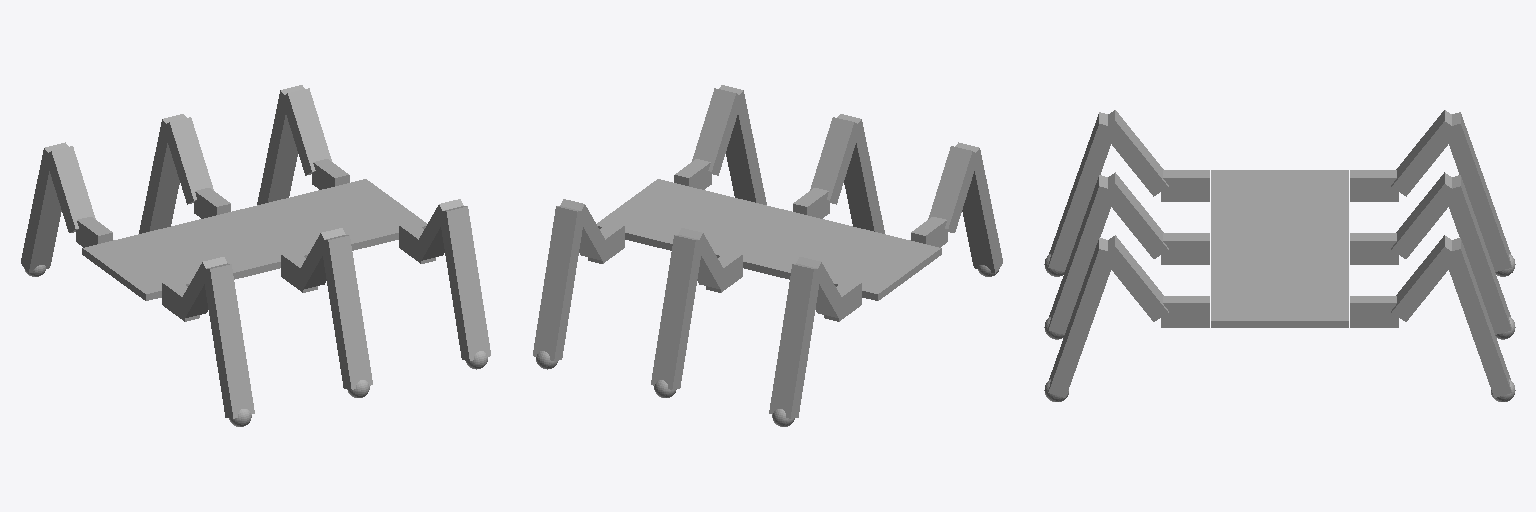
URDF robot description (hexapodo):
<?xml version="1.0" ?>
<!-- =================================================================================== -->
<!-- |    This document was autogenerated by xacro from [local-path]/WS_ROS/ws_tfg/src/hexapodo/hexapodo_description/urdf/mi_hexapodo_3dof.xacro | -->
<!-- |    EDITING THIS FILE BY HAND IS NOT RECOMMENDED                                 | -->
<!-- =================================================================================== -->
<robot name="hexapodo" xmlns:xacro="http://ros.org/wiki/xacro">
  <!-- Propiedades articulaciones -->
  <!-- Chasis -->
  <link name="map"/>
  <joint name="base_joint" type="fixed">
    <parent link="map"/>
    <child link="base_link"/>
    <origin rpy="0 0 0" xyz="0 0 0"/>
  </joint>
  <link name="base_link">
    <inertial>
      <origin rpy="0 0 0" xyz="0 0 0"/>
      <mass value="0.5"/>
      <inertia ixx="0.569270833333" ixy="0" ixz="0" iyy="2.63648666667" iyz="0" izz="2.63648666667"/>
    </inertial>
    <visual>
      <origin rpy="0 0 0" xyz="0 0 0"/>
      <geometry>
        <box size="0.42672 0.165 0.01"/>
      </geometry>
      <material name="">
        <color rgba="0.7 0.7 0.7 1"/>
      </material>
    </visual>
    <collision>
      <origin rpy="0 0 0" xyz="0 0 0"/>
      <geometry>
        <box size="0.3556 0.165 0.004"/>
      </geometry>
    </collision>
  </link>
  <!-- Leg macro -->
  <!-- Modelo del robot -->
  <!-- leg position -->
  <joint name="leg_center_joint_RR" type="fixed">
    <origin rpy="0 0 0" xyz="0.1778 -0.08335 0"/>
    <parent link="base_link"/>
    <child link="leg_center_RR"/>
  </joint>
  <link name="leg_center_RR">
    <inertial>
      <origin rpy="0 0 0" xyz="0 0 0"/>
      <mass value="0.5"/>
      <inertia ixx="0.569270833333" ixy="0" ixz="0" iyy="2.63648666667" iyz="0" izz="2.63648666667"/>
    </inertial>
  </link>
  <!-- coxa -->
  <joint name="coxa_joint_RR" type="revolute">
    <origin rpy="0 0 -1.57079632679" xyz="0 0 0"/>
    <parent link="leg_center_RR"/>
    <child link="coxa_RR"/>
    <axis xyz="0 0 1"/>
    <limit effort="10000" lower="-3.14" upper="3.14" velocity="100"/>
  </joint>
  <link name="coxa_RR">
    <inertial>
      <origin rpy="0 0 0" xyz="0 0 0"/>
      <mass value="0.15"/>
      <inertia ixx="0.0096265625" ixy="0" ixz="0" iyy="0.093420185" iyz="0" izz="0.093420185"/>
    </inertial>
    <visual>
      <origin rpy="0 0 0" xyz="0.029465 0 0"/>
      <geometry>
        <box size="0.05893 0.022 0.0325"/>
      </geometry>
      <material name="">
        <color rgba="0.7 0.7 0.7 1"/>
      </material>
    </visual>
    <collision>
      <origin rpy="0 0 0" xyz="0.029465 0 0"/>
      <geometry>
        <box size="0.05893 0.022 0.0325"/>
      </geometry>
    </collision>
  </link>
  <!-- femur -->
  <joint name="femur_joint_RR" type="revolute">
    <origin rpy="-1.57079632679 +0.63 0" xyz="0.05893 0 0"/>
    <parent link="coxa_RR"/>
    <child link="femur_RR"/>
    <axis xyz="0 0 1"/>
    <limit effort="10000" lower="-3.14" upper="3.14" velocity="100"/>
  </joint>
  <link name="femur_RR">
    <inertial>
      <origin rpy="0 0 0" xyz="0 -0.05399 0"/>
      <mass value="0.15"/>
      <inertia ixx="0.079474565" ixy="0" ixz="0" iyy="0.0096265625" iyz="0" izz="0.0096265625"/>
    </inertial>
    <visual>
      <origin rpy="0 0 0" xyz="0 -0.05399 0"/>
      <geometry>
        <box size="0.022 0.10798 0.0325"/>
      </geometry>
      <material name="">
        <color rgba="0.7 0.7 0.7 1"/>
      </material>
    </visual>
    <collision>
      <origin rpy="0 0 0" xyz="0 -0.05399 0"/>
      <geometry>
        <box size="0.022 0.10798 0.0325"/>
      </geometry>
    </collision>
  </link>
  <!-- tibia -->
  <joint name="tibia_joint_RR" type="revolute">
    <origin rpy="3.14159265359 0 0.63" xyz="0 -0.10798 0"/>
    <parent link="femur_RR"/>
    <child link="tibia_RR"/>
    <axis xyz="0 0 1"/>
    <limit effort="10000" lower="-3.14" upper="3.14" velocity="100"/>
  </joint>
  <link name="tibia_RR">
    <inertial>
      <origin rpy="0 0 0" xyz="0.1 0 0"/>
      <mass value="0.15"/>
      <inertia ixx="0.0096265625" ixy="0" ixz="0" iyy="0.2566015625" iyz="0" izz="0.2566015625"/>
    </inertial>
    <visual>
      <origin rpy="0 0 0" xyz="0.1 0 0"/>
      <geometry>
        <box size="0.2 0.022 0.0325"/>
      </geometry>
      <material name="">
        <color rgba="0.7 0.7 0.7 1"/>
      </material>
    </visual>
    <visual>
      <origin rpy="0 0 0" xyz="0.2 0 0"/>
      <geometry>
        <sphere radius="0.015"/>
      </geometry>
      <material name="">
        <color rgba="0.7 0.7 0.7 1"/>
      </material>
    </visual>
    <collision>
      <origin rpy="0 0 0" xyz="0.1 0 0"/>
      <geometry>
        <box size="0.2 0.022 0.0325"/>
      </geometry>
      <collision>
        <origin rpy="0 0 0" xyz="0.2 0 0"/>
        <geometry>
          <sphere radius="0.015"/>
        </geometry>
      </collision>
    </collision>
  </link>
  <!-- leg position -->
  <joint name="leg_center_joint_RM" type="fixed">
    <origin rpy="0 0 0" xyz="0.0 -0.08335 0"/>
    <parent link="base_link"/>
    <child link="leg_center_RM"/>
  </joint>
  <link name="leg_center_RM">
    <inertial>
      <origin rpy="0 0 0" xyz="0 0 0"/>
      <mass value="0.5"/>
      <inertia ixx="0.569270833333" ixy="0" ixz="0" iyy="2.63648666667" iyz="0" izz="2.63648666667"/>
    </inertial>
  </link>
  <!-- coxa -->
  <joint name="coxa_joint_RM" type="revolute">
    <origin rpy="0 0 -1.57079632679" xyz="0 0 0"/>
    <parent link="leg_center_RM"/>
    <child link="coxa_RM"/>
    <axis xyz="0 0 1"/>
    <limit effort="10000" lower="-3.14" upper="3.14" velocity="100"/>
  </joint>
  <link name="coxa_RM">
    <inertial>
      <origin rpy="0 0 0" xyz="0 0 0"/>
      <mass value="0.15"/>
      <inertia ixx="0.0096265625" ixy="0" ixz="0" iyy="0.093420185" iyz="0" izz="0.093420185"/>
    </inertial>
    <visual>
      <origin rpy="0 0 0" xyz="0.029465 0 0"/>
      <geometry>
        <box size="0.05893 0.022 0.0325"/>
      </geometry>
      <material name="">
        <color rgba="0.7 0.7 0.7 1"/>
      </material>
    </visual>
    <collision>
      <origin rpy="0 0 0" xyz="0.029465 0 0"/>
      <geometry>
        <box size="0.05893 0.022 0.0325"/>
      </geometry>
    </collision>
  </link>
  <!-- femur -->
  <joint name="femur_joint_RM" type="revolute">
    <origin rpy="-1.57079632679 +0.63 0" xyz="0.05893 0 0"/>
    <parent link="coxa_RM"/>
    <child link="femur_RM"/>
    <axis xyz="0 0 1"/>
    <limit effort="10000" lower="-3.14" upper="3.14" velocity="100"/>
  </joint>
  <link name="femur_RM">
    <inertial>
      <origin rpy="0 0 0" xyz="0 -0.05399 0"/>
      <mass value="0.15"/>
      <inertia ixx="0.079474565" ixy="0" ixz="0" iyy="0.0096265625" iyz="0" izz="0.0096265625"/>
    </inertial>
    <visual>
      <origin rpy="0 0 0" xyz="0 -0.05399 0"/>
      <geometry>
        <box size="0.022 0.10798 0.0325"/>
      </geometry>
      <material name="">
        <color rgba="0.7 0.7 0.7 1"/>
      </material>
    </visual>
    <collision>
      <origin rpy="0 0 0" xyz="0 -0.05399 0"/>
      <geometry>
        <box size="0.022 0.10798 0.0325"/>
      </geometry>
    </collision>
  </link>
  <!-- tibia -->
  <joint name="tibia_joint_RM" type="revolute">
    <origin rpy="3.14159265359 0 0.63" xyz="0 -0.10798 0"/>
    <parent link="femur_RM"/>
    <child link="tibia_RM"/>
    <axis xyz="0 0 1"/>
    <limit effort="10000" lower="-3.14" upper="3.14" velocity="100"/>
  </joint>
  <link name="tibia_RM">
    <inertial>
      <origin rpy="0 0 0" xyz="0.1 0 0"/>
      <mass value="0.15"/>
      <inertia ixx="0.0096265625" ixy="0" ixz="0" iyy="0.2566015625" iyz="0" izz="0.2566015625"/>
    </inertial>
    <visual>
      <origin rpy="0 0 0" xyz="0.1 0 0"/>
      <geometry>
        <box size="0.2 0.022 0.0325"/>
      </geometry>
      <material name="">
        <color rgba="0.7 0.7 0.7 1"/>
      </material>
    </visual>
    <visual>
      <origin rpy="0 0 0" xyz="0.2 0 0"/>
      <geometry>
        <sphere radius="0.015"/>
      </geometry>
      <material name="">
        <color rgba="0.7 0.7 0.7 1"/>
      </material>
    </visual>
    <collision>
      <origin rpy="0 0 0" xyz="0.1 0 0"/>
      <geometry>
        <box size="0.2 0.022 0.0325"/>
      </geometry>
      <collision>
        <origin rpy="0 0 0" xyz="0.2 0 0"/>
        <geometry>
          <sphere radius="0.015"/>
        </geometry>
      </collision>
    </collision>
  </link>
  <!-- leg position -->
  <joint name="leg_center_joint_RF" type="fixed">
    <origin rpy="0 0 0" xyz="-0.1778 -0.08335 0"/>
    <parent link="base_link"/>
    <child link="leg_center_RF"/>
  </joint>
  <link name="leg_center_RF">
    <inertial>
      <origin rpy="0 0 0" xyz="0 0 0"/>
      <mass value="0.5"/>
      <inertia ixx="0.569270833333" ixy="0" ixz="0" iyy="2.63648666667" iyz="0" izz="2.63648666667"/>
    </inertial>
  </link>
  <!-- coxa -->
  <joint name="coxa_joint_RF" type="revolute">
    <origin rpy="0 0 -1.57079632679" xyz="0 0 0"/>
    <parent link="leg_center_RF"/>
    <child link="coxa_RF"/>
    <axis xyz="0 0 1"/>
    <limit effort="10000" lower="-3.14" upper="3.14" velocity="100"/>
  </joint>
  <link name="coxa_RF">
    <inertial>
      <origin rpy="0 0 0" xyz="0 0 0"/>
      <mass value="0.15"/>
      <inertia ixx="0.0096265625" ixy="0" ixz="0" iyy="0.093420185" iyz="0" izz="0.093420185"/>
    </inertial>
    <visual>
      <origin rpy="0 0 0" xyz="0.029465 0 0"/>
      <geometry>
        <box size="0.05893 0.022 0.0325"/>
      </geometry>
      <material name="">
        <color rgba="0.7 0.7 0.7 1"/>
      </material>
    </visual>
    <collision>
      <origin rpy="0 0 0" xyz="0.029465 0 0"/>
      <geometry>
        <box size="0.05893 0.022 0.0325"/>
      </geometry>
    </collision>
  </link>
  <!-- femur -->
  <joint name="femur_joint_RF" type="revolute">
    <origin rpy="-1.57079632679 +0.63 0" xyz="0.05893 0 0"/>
    <parent link="coxa_RF"/>
    <child link="femur_RF"/>
    <axis xyz="0 0 1"/>
    <limit effort="10000" lower="-3.14" upper="3.14" velocity="100"/>
  </joint>
  <link name="femur_RF">
    <inertial>
      <origin rpy="0 0 0" xyz="0 -0.05399 0"/>
      <mass value="0.15"/>
      <inertia ixx="0.079474565" ixy="0" ixz="0" iyy="0.0096265625" iyz="0" izz="0.0096265625"/>
    </inertial>
    <visual>
      <origin rpy="0 0 0" xyz="0 -0.05399 0"/>
      <geometry>
        <box size="0.022 0.10798 0.0325"/>
      </geometry>
      <material name="">
        <color rgba="0.7 0.7 0.7 1"/>
      </material>
    </visual>
    <collision>
      <origin rpy="0 0 0" xyz="0 -0.05399 0"/>
      <geometry>
        <box size="0.022 0.10798 0.0325"/>
      </geometry>
    </collision>
  </link>
  <!-- tibia -->
  <joint name="tibia_joint_RF" type="revolute">
    <origin rpy="3.14159265359 0 0.63" xyz="0 -0.10798 0"/>
    <parent link="femur_RF"/>
    <child link="tibia_RF"/>
    <axis xyz="0 0 1"/>
    <limit effort="10000" lower="-3.14" upper="3.14" velocity="100"/>
  </joint>
  <link name="tibia_RF">
    <inertial>
      <origin rpy="0 0 0" xyz="0.1 0 0"/>
      <mass value="0.15"/>
      <inertia ixx="0.0096265625" ixy="0" ixz="0" iyy="0.2566015625" iyz="0" izz="0.2566015625"/>
    </inertial>
    <visual>
      <origin rpy="0 0 0" xyz="0.1 0 0"/>
      <geometry>
        <box size="0.2 0.022 0.0325"/>
      </geometry>
      <material name="">
        <color rgba="0.7 0.7 0.7 1"/>
      </material>
    </visual>
    <visual>
      <origin rpy="0 0 0" xyz="0.2 0 0"/>
      <geometry>
        <sphere radius="0.015"/>
      </geometry>
      <material name="">
        <color rgba="0.7 0.7 0.7 1"/>
      </material>
    </visual>
    <collision>
      <origin rpy="0 0 0" xyz="0.1 0 0"/>
      <geometry>
        <box size="0.2 0.022 0.0325"/>
      </geometry>
      <collision>
        <origin rpy="0 0 0" xyz="0.2 0 0"/>
        <geometry>
          <sphere radius="0.015"/>
        </geometry>
      </collision>
    </collision>
  </link>
  <!-- leg position -->
  <joint name="leg_center_joint_LR" type="fixed">
    <origin rpy="0 0 0" xyz="0.1778 0.08335 0"/>
    <parent link="base_link"/>
    <child link="leg_center_LR"/>
  </joint>
  <link name="leg_center_LR">
    <inertial>
      <origin rpy="0 0 0" xyz="0 0 0"/>
      <mass value="0.5"/>
      <inertia ixx="0.569270833333" ixy="0" ixz="0" iyy="2.63648666667" iyz="0" izz="2.63648666667"/>
    </inertial>
  </link>
  <!-- coxa -->
  <joint name="coxa_joint_LR" type="revolute">
    <origin rpy="0 0 1.57079632679" xyz="0 0 0"/>
    <parent link="leg_center_LR"/>
    <child link="coxa_LR"/>
    <axis xyz="0 0 -1"/>
    <limit effort="10000" lower="-3.14" upper="3.14" velocity="100"/>
  </joint>
  <link name="coxa_LR">
    <inertial>
      <origin rpy="0 0 0" xyz="0 0 0"/>
      <mass value="0.15"/>
      <inertia ixx="0.0096265625" ixy="0" ixz="0" iyy="0.093420185" iyz="0" izz="0.093420185"/>
    </inertial>
    <visual>
      <origin rpy="0 0 0" xyz="0.029465 0 0"/>
      <geometry>
        <box size="0.05893 0.022 0.0325"/>
      </geometry>
      <material name="">
        <color rgba="0.7 0.7 0.7 1"/>
      </material>
    </visual>
    <collision>
      <origin rpy="0 0 0" xyz="0.029465 0 0"/>
      <geometry>
        <box size="0.05893 0.022 0.0325"/>
      </geometry>
    </collision>
  </link>
  <!-- femur -->
  <joint name="femur_joint_LR" type="revolute">
    <origin rpy="-1.57079632679 +0.63 0" xyz="0.05893 0 0"/>
    <parent link="coxa_LR"/>
    <child link="femur_LR"/>
    <axis xyz="0 0 -1"/>
    <limit effort="10000" lower="-3.14" upper="3.14" velocity="100"/>
  </joint>
  <link name="femur_LR">
    <inertial>
      <origin rpy="0 0 0" xyz="0 -0.05399 0"/>
      <mass value="0.15"/>
      <inertia ixx="0.079474565" ixy="0" ixz="0" iyy="0.0096265625" iyz="0" izz="0.0096265625"/>
    </inertial>
    <visual>
      <origin rpy="0 0 0" xyz="0 -0.05399 0"/>
      <geometry>
        <box size="0.022 0.10798 0.0325"/>
      </geometry>
      <material name="">
        <color rgba="0.7 0.7 0.7 1"/>
      </material>
    </visual>
    <collision>
      <origin rpy="0 0 0" xyz="0 -0.05399 0"/>
      <geometry>
        <box size="0.022 0.10798 0.0325"/>
      </geometry>
    </collision>
  </link>
  <!-- tibia -->
  <joint name="tibia_joint_LR" type="revolute">
    <origin rpy="3.14159265359 0 0.63" xyz="0 -0.10798 0"/>
    <parent link="femur_LR"/>
    <child link="tibia_LR"/>
    <axis xyz="0 0 -1"/>
    <limit effort="10000" lower="-3.14" upper="3.14" velocity="100"/>
  </joint>
  <link name="tibia_LR">
    <inertial>
      <origin rpy="0 0 0" xyz="0.1 0 0"/>
      <mass value="0.15"/>
      <inertia ixx="0.0096265625" ixy="0" ixz="0" iyy="0.2566015625" iyz="0" izz="0.2566015625"/>
    </inertial>
    <visual>
      <origin rpy="0 0 0" xyz="0.1 0 0"/>
      <geometry>
        <box size="0.2 0.022 0.0325"/>
      </geometry>
      <material name="">
        <color rgba="0.7 0.7 0.7 1"/>
      </material>
    </visual>
    <visual>
      <origin rpy="0 0 0" xyz="0.2 0 0"/>
      <geometry>
        <sphere radius="0.015"/>
      </geometry>
      <material name="">
        <color rgba="0.7 0.7 0.7 1"/>
      </material>
    </visual>
    <collision>
      <origin rpy="0 0 0" xyz="0.1 0 0"/>
      <geometry>
        <box size="0.2 0.022 0.0325"/>
      </geometry>
      <collision>
        <origin rpy="0 0 0" xyz="0.2 0 0"/>
        <geometry>
          <sphere radius="0.015"/>
        </geometry>
      </collision>
    </collision>
  </link>
  <!-- leg position -->
  <joint name="leg_center_joint_LM" type="fixed">
    <origin rpy="0 0 0" xyz="0.0 0.08335 0"/>
    <parent link="base_link"/>
    <child link="leg_center_LM"/>
  </joint>
  <link name="leg_center_LM">
    <inertial>
      <origin rpy="0 0 0" xyz="0 0 0"/>
      <mass value="0.5"/>
      <inertia ixx="0.569270833333" ixy="0" ixz="0" iyy="2.63648666667" iyz="0" izz="2.63648666667"/>
    </inertial>
  </link>
  <!-- coxa -->
  <joint name="coxa_joint_LM" type="revolute">
    <origin rpy="0 0 1.57079632679" xyz="0 0 0"/>
    <parent link="leg_center_LM"/>
    <child link="coxa_LM"/>
    <axis xyz="0 0 -1"/>
    <limit effort="10000" lower="-3.14" upper="3.14" velocity="100"/>
  </joint>
  <link name="coxa_LM">
    <inertial>
      <origin rpy="0 0 0" xyz="0 0 0"/>
      <mass value="0.15"/>
      <inertia ixx="0.0096265625" ixy="0" ixz="0" iyy="0.093420185" iyz="0" izz="0.093420185"/>
    </inertial>
    <visual>
      <origin rpy="0 0 0" xyz="0.029465 0 0"/>
      <geometry>
        <box size="0.05893 0.022 0.0325"/>
      </geometry>
      <material name="">
        <color rgba="0.7 0.7 0.7 1"/>
      </material>
    </visual>
    <collision>
      <origin rpy="0 0 0" xyz="0.029465 0 0"/>
      <geometry>
        <box size="0.05893 0.022 0.0325"/>
      </geometry>
    </collision>
  </link>
  <!-- femur -->
  <joint name="femur_joint_LM" type="revolute">
    <origin rpy="-1.57079632679 +0.63 0" xyz="0.05893 0 0"/>
    <parent link="coxa_LM"/>
    <child link="femur_LM"/>
    <axis xyz="0 0 -1"/>
    <limit effort="10000" lower="-3.14" upper="3.14" velocity="100"/>
  </joint>
  <link name="femur_LM">
    <inertial>
      <origin rpy="0 0 0" xyz="0 -0.05399 0"/>
      <mass value="0.15"/>
      <inertia ixx="0.079474565" ixy="0" ixz="0" iyy="0.0096265625" iyz="0" izz="0.0096265625"/>
    </inertial>
    <visual>
      <origin rpy="0 0 0" xyz="0 -0.05399 0"/>
      <geometry>
        <box size="0.022 0.10798 0.0325"/>
      </geometry>
      <material name="">
        <color rgba="0.7 0.7 0.7 1"/>
      </material>
    </visual>
    <collision>
      <origin rpy="0 0 0" xyz="0 -0.05399 0"/>
      <geometry>
        <box size="0.022 0.10798 0.0325"/>
      </geometry>
    </collision>
  </link>
  <!-- tibia -->
  <joint name="tibia_joint_LM" type="revolute">
    <origin rpy="3.14159265359 0 0.63" xyz="0 -0.10798 0"/>
    <parent link="femur_LM"/>
    <child link="tibia_LM"/>
    <axis xyz="0 0 -1"/>
    <limit effort="10000" lower="-3.14" upper="3.14" velocity="100"/>
  </joint>
  <link name="tibia_LM">
    <inertial>
      <origin rpy="0 0 0" xyz="0.1 0 0"/>
      <mass value="0.15"/>
      <inertia ixx="0.0096265625" ixy="0" ixz="0" iyy="0.2566015625" iyz="0" izz="0.2566015625"/>
    </inertial>
    <visual>
      <origin rpy="0 0 0" xyz="0.1 0 0"/>
      <geometry>
        <box size="0.2 0.022 0.0325"/>
      </geometry>
      <material name="">
        <color rgba="0.7 0.7 0.7 1"/>
      </material>
    </visual>
    <visual>
      <origin rpy="0 0 0" xyz="0.2 0 0"/>
      <geometry>
        <sphere radius="0.015"/>
      </geometry>
      <material name="">
        <color rgba="0.7 0.7 0.7 1"/>
      </material>
    </visual>
    <collision>
      <origin rpy="0 0 0" xyz="0.1 0 0"/>
      <geometry>
        <box size="0.2 0.022 0.0325"/>
      </geometry>
      <collision>
        <origin rpy="0 0 0" xyz="0.2 0 0"/>
        <geometry>
          <sphere radius="0.015"/>
        </geometry>
      </collision>
    </collision>
  </link>
  <!-- leg position -->
  <joint name="leg_center_joint_LF" type="fixed">
    <origin rpy="0 0 0" xyz="-0.1778 0.08335 0"/>
    <parent link="base_link"/>
    <child link="leg_center_LF"/>
  </joint>
  <link name="leg_center_LF">
    <inertial>
      <origin rpy="0 0 0" xyz="0 0 0"/>
      <mass value="0.5"/>
      <inertia ixx="0.569270833333" ixy="0" ixz="0" iyy="2.63648666667" iyz="0" izz="2.63648666667"/>
    </inertial>
  </link>
  <!-- coxa -->
  <joint name="coxa_joint_LF" type="revolute">
    <origin rpy="0 0 1.57079632679" xyz="0 0 0"/>
    <parent link="leg_center_LF"/>
    <child link="coxa_LF"/>
    <axis xyz="0 0 -1"/>
    <limit effort="10000" lower="-3.14" upper="3.14" velocity="100"/>
  </joint>
  <link name="coxa_LF">
    <inertial>
      <origin rpy="0 0 0" xyz="0 0 0"/>
      <mass value="0.15"/>
      <inertia ixx="0.0096265625" ixy="0" ixz="0" iyy="0.093420185" iyz="0" izz="0.093420185"/>
    </inertial>
    <visual>
      <origin rpy="0 0 0" xyz="0.029465 0 0"/>
      <geometry>
        <box size="0.05893 0.022 0.0325"/>
      </geometry>
      <material name="">
        <color rgba="0.7 0.7 0.7 1"/>
      </material>
    </visual>
    <collision>
      <origin rpy="0 0 0" xyz="0.029465 0 0"/>
      <geometry>
        <box size="0.05893 0.022 0.0325"/>
      </geometry>
    </collision>
  </link>
  <!-- femur -->
  <joint name="femur_joint_LF" type="revolute">
    <origin rpy="-1.57079632679 +0.63 0" xyz="0.05893 0 0"/>
    <parent link="coxa_LF"/>
    <child link="femur_LF"/>
    <axis xyz="0 0 -1"/>
    <limit effort="10000" lower="-3.14" upper="3.14" velocity="100"/>
  </joint>
  <link name="femur_LF">
    <inertial>
      <origin rpy="0 0 0" xyz="0 -0.05399 0"/>
      <mass value="0.15"/>
      <inertia ixx="0.079474565" ixy="0" ixz="0" iyy="0.0096265625" iyz="0" izz="0.0096265625"/>
    </inertial>
    <visual>
      <origin rpy="0 0 0" xyz="0 -0.05399 0"/>
      <geometry>
        <box size="0.022 0.10798 0.0325"/>
      </geometry>
      <material name="">
        <color rgba="0.7 0.7 0.7 1"/>
      </material>
    </visual>
    <collision>
      <origin rpy="0 0 0" xyz="0 -0.05399 0"/>
      <geometry>
        <box size="0.022 0.10798 0.0325"/>
      </geometry>
    </collision>
  </link>
  <!-- tibia -->
  <joint name="tibia_joint_LF" type="revolute">
    <origin rpy="3.14159265359 0 0.63" xyz="0 -0.10798 0"/>
    <parent link="femur_LF"/>
    <child link="tibia_LF"/>
    <axis xyz="0 0 -1"/>
    <limit effort="10000" lower="-3.14" upper="3.14" velocity="100"/>
  </joint>
  <link name="tibia_LF">
    <inertial>
      <origin rpy="0 0 0" xyz="0.1 0 0"/>
      <mass value="0.15"/>
      <inertia ixx="0.0096265625" ixy="0" ixz="0" iyy="0.2566015625" iyz="0" izz="0.2566015625"/>
    </inertial>
    <visual>
      <origin rpy="0 0 0" xyz="0.1 0 0"/>
      <geometry>
        <box size="0.2 0.022 0.0325"/>
      </geometry>
      <material name="">
        <color rgba="0.7 0.7 0.7 1"/>
      </material>
    </visual>
    <visual>
      <origin rpy="0 0 0" xyz="0.2 0 0"/>
      <geometry>
        <sphere radius="0.015"/>
      </geometry>
      <material name="">
        <color rgba="0.7 0.7 0.7 1"/>
      </material>
    </visual>
    <collision>
      <origin rpy="0 0 0" xyz="0.1 0 0"/>
      <geometry>
        <box size="0.2 0.022 0.0325"/>
      </geometry>
      <collision>
        <origin rpy="0 0 0" xyz="0.2 0 0"/>
        <geometry>
          <sphere radius="0.015"/>
        </geometry>
      </collision>
    </collision>
  </link>
</robot>

--- Render facts (derived) ---
Views: 3 orthographic renders of the robot side by side, from view 1: azimuth 30°, elevation 25°; view 2: azimuth 150°, elevation 25°; view 3: azimuth 270°, elevation 25°.
Robot: hexapodo — 26 links, 25 joints (18 revolute, 7 fixed); root link map; default pose: every joint at zero.
Visible links, largest first — view 1: base_link, tibia_RR, tibia_RF, tibia_RM, tibia_LF, tibia_LM, tibia_LR, femur_LR, femur_LM, femur_LF, femur_RM, femur_RF (+7 smaller); view 2: base_link, tibia_LF, tibia_LM, tibia_LR, tibia_RF, tibia_RR, tibia_RM, femur_RM, femur_RR, femur_RF, femur_LR, femur_LM (+7 smaller); view 3: base_link, tibia_RR, tibia_LR, tibia_RF, tibia_LF, tibia_RM, tibia_LM, femur_LR, femur_RR, femur_LM, femur_RM, femur_LF (+7 smaller).
Link boxes in pixels (x1,y1,x2,y2): base_link: (82, 179, 426, 300); tibia_RR: (439, 206, 490, 369); tibia_RF: (202, 263, 254, 426); tibia_RM: (323, 235, 372, 397); tibia_LF: (21, 142, 68, 276); tibia_LM: (139, 114, 186, 233); tibia_LR: (257, 85, 304, 204); femur_LR: (281, 88, 331, 175); femur_LM: (163, 117, 213, 204); femur_LF: (48, 146, 95, 232); femur_RM: (297, 228, 345, 289); femur_RF: (178, 257, 226, 317); base_link: (597, 179, 941, 300); tibia_LF: (769, 263, 821, 426); tibia_LM: (651, 235, 700, 397); tibia_LR: (533, 206, 582, 369); tibia_RF: (955, 142, 1002, 276); tibia_RR: (719, 85, 766, 204); tibia_RM: (837, 114, 884, 233); femur_RM: (810, 117, 860, 204); femur_RR: (692, 88, 742, 175); femur_RF: (928, 146, 977, 232); femur_LR: (560, 199, 608, 260); femur_LM: (678, 228, 726, 289); base_link: (1211, 170, 1348, 327); tibia_RR: (1044, 238, 1112, 401); tibia_LR: (1445, 238, 1515, 401); tibia_RF: (1044, 112, 1116, 276); tibia_LF: (1443, 112, 1515, 276); tibia_RM: (1044, 175, 1113, 339); tibia_LM: (1445, 175, 1515, 339); femur_LR: (1391, 235, 1458, 321); femur_RR: (1101, 235, 1168, 321); femur_LM: (1391, 172, 1458, 258); femur_RM: (1101, 172, 1168, 258); femur_LF: (1391, 110, 1458, 196).
Size in the robot's own frame: 0.4267 by 0.564 by 0.2118 metres.
Geometry: primitives only (box / cylinder / sphere), no mesh files.